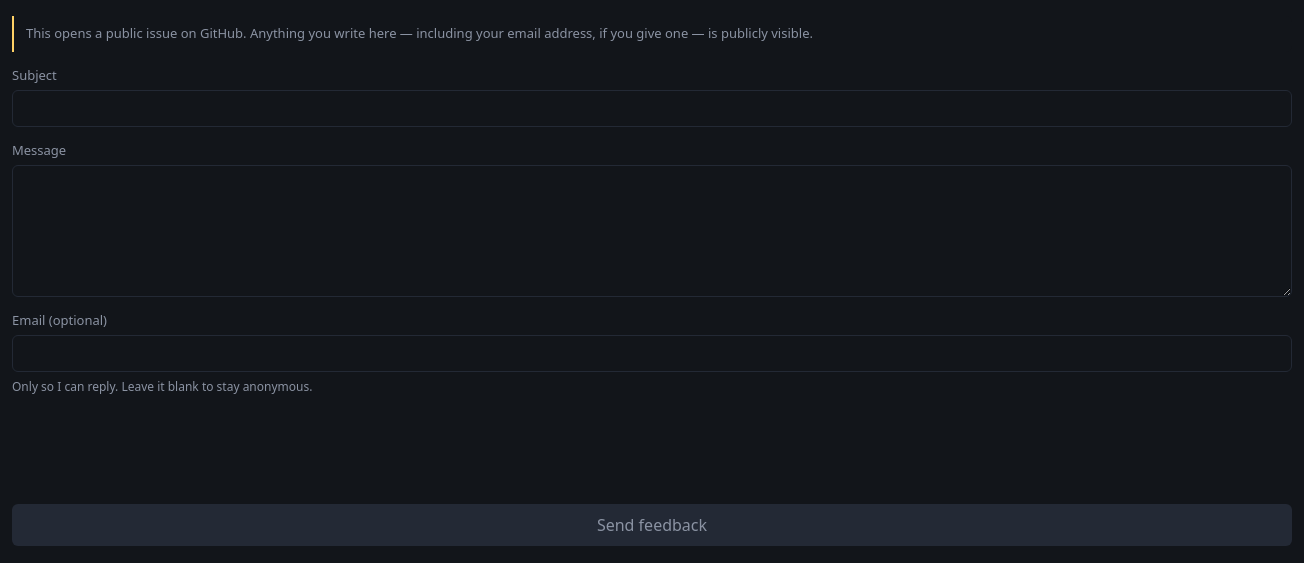
FeedbackForm › submits the typed values plus the captcha token and page URL, then shows the issue link
Type "Cadence panel is blank" into the field labelled "Subject" at (652, 108), box x1=12 y1=90 x2=1292 y2=126
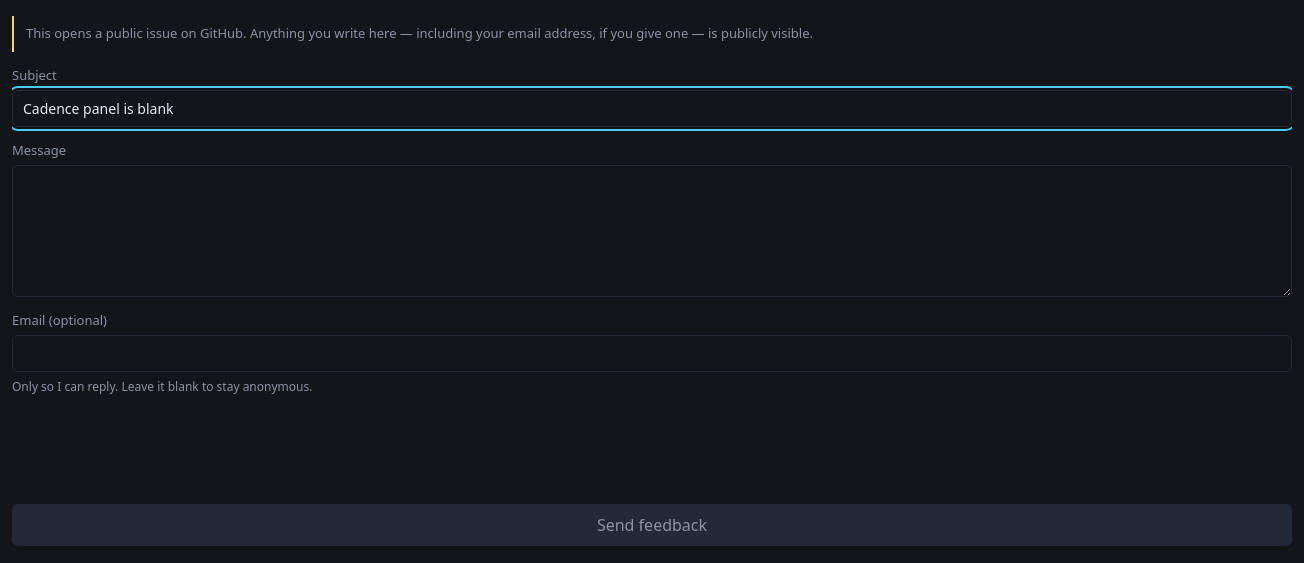
Type "The cadence chart renders nothing." into the text box labelled "Message" at (652, 230), box x1=12 y1=164 x2=1292 y2=296
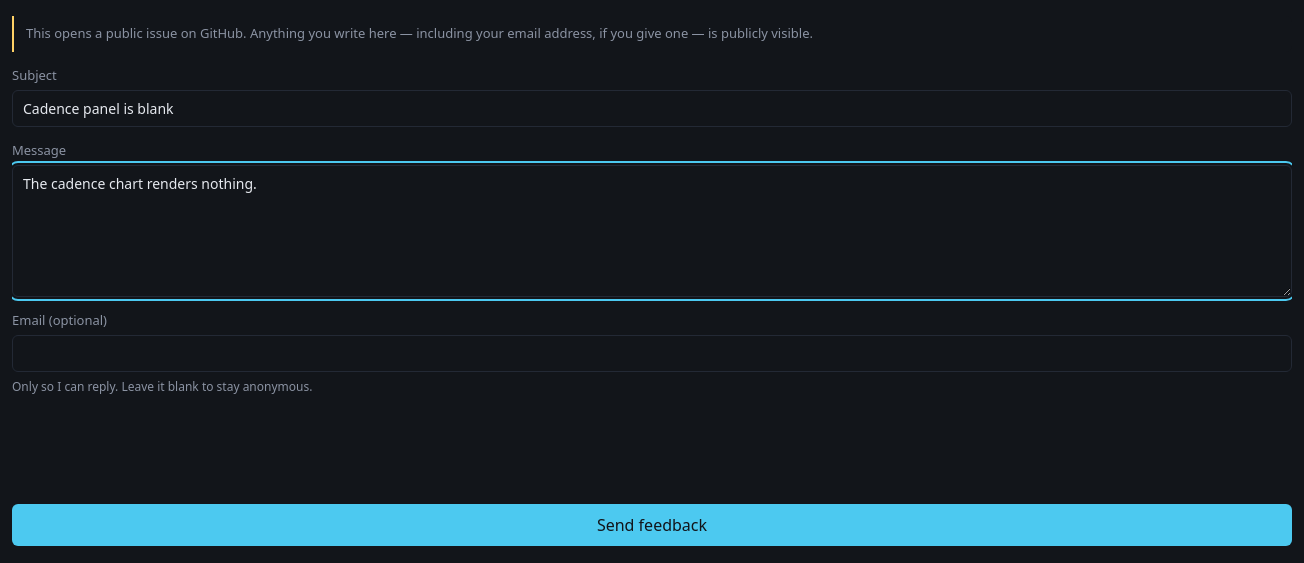
Click the button "Send feedback" at (652, 524), box x1=12 y1=504 x2=1292 y2=546
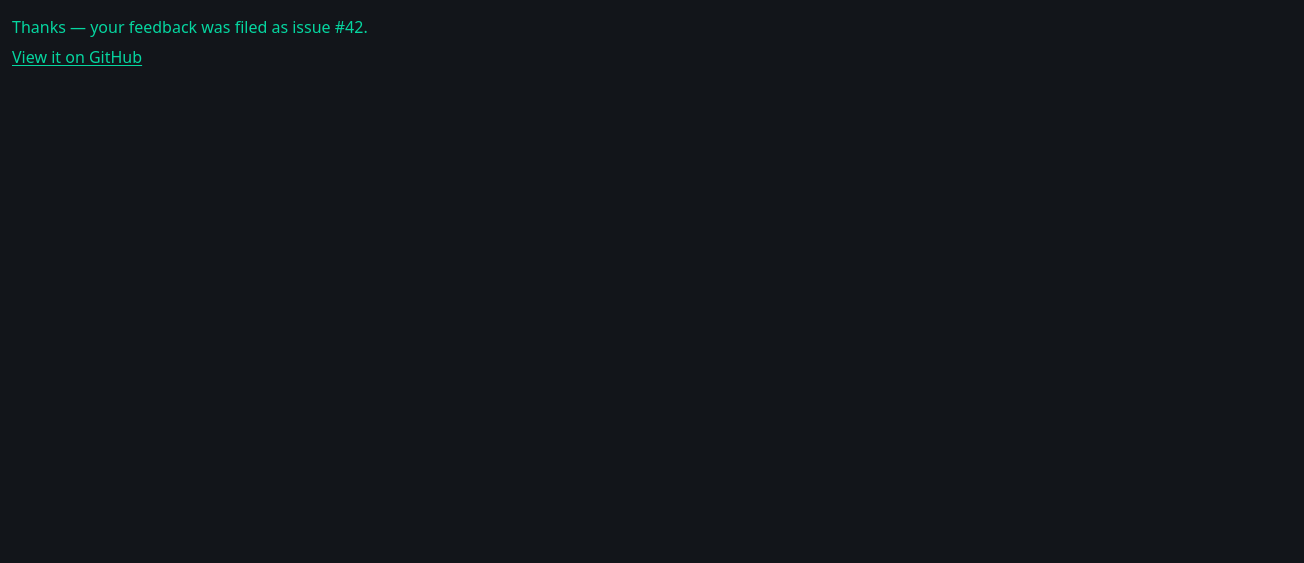
Expected: the text "Thanks — your feedback was filed as issue #42." is shown, x1=12 y1=16 x2=368 y2=38
